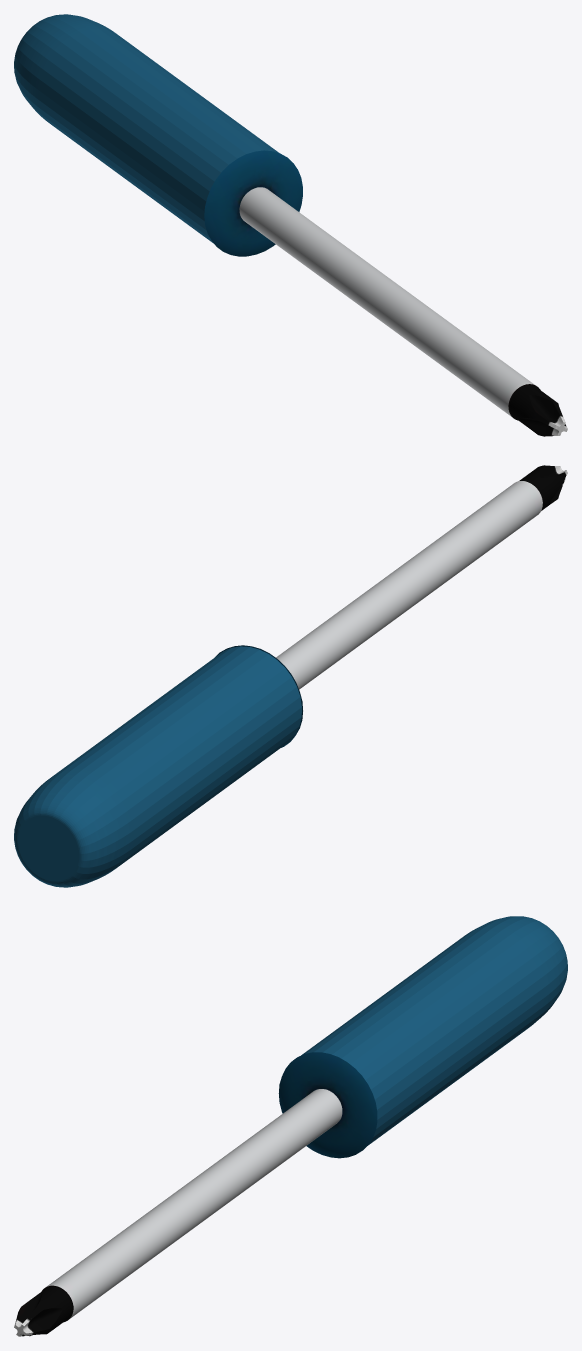
File: screwdriver-final.glb
3 views of the same model, one above another, from view 1: azimuth 30°, elevation 25°; view 2: azimuth 150°, elevation 25°; view 3: azimuth 330°, elevation 25° (orthographic).
Visible parts, largest first — view 1: Cylinder, phillips_screwdriver_LP_Scene_Material_0; view 2: Cylinder, phillips_screwdriver_LP_Scene_Material_0; view 3: Cylinder, phillips_screwdriver_LP_Scene_Material_0.
Boxes of the visible parts, x1,y1,x2,y2 form: Cylinder: (14, 14, 279, 243); phillips_screwdriver_LP_Scene_Material_0: (204, 150, 567, 436); Cylinder: (14, 646, 301, 887); phillips_screwdriver_LP_Scene_Material_0: (215, 465, 567, 747); Cylinder: (301, 916, 567, 1145); phillips_screwdriver_LP_Scene_Material_0: (14, 1052, 377, 1336).
Size of the model in its own units: 0.2028 by 0.2028 by 1.83.
2 materials, 1 textured.
